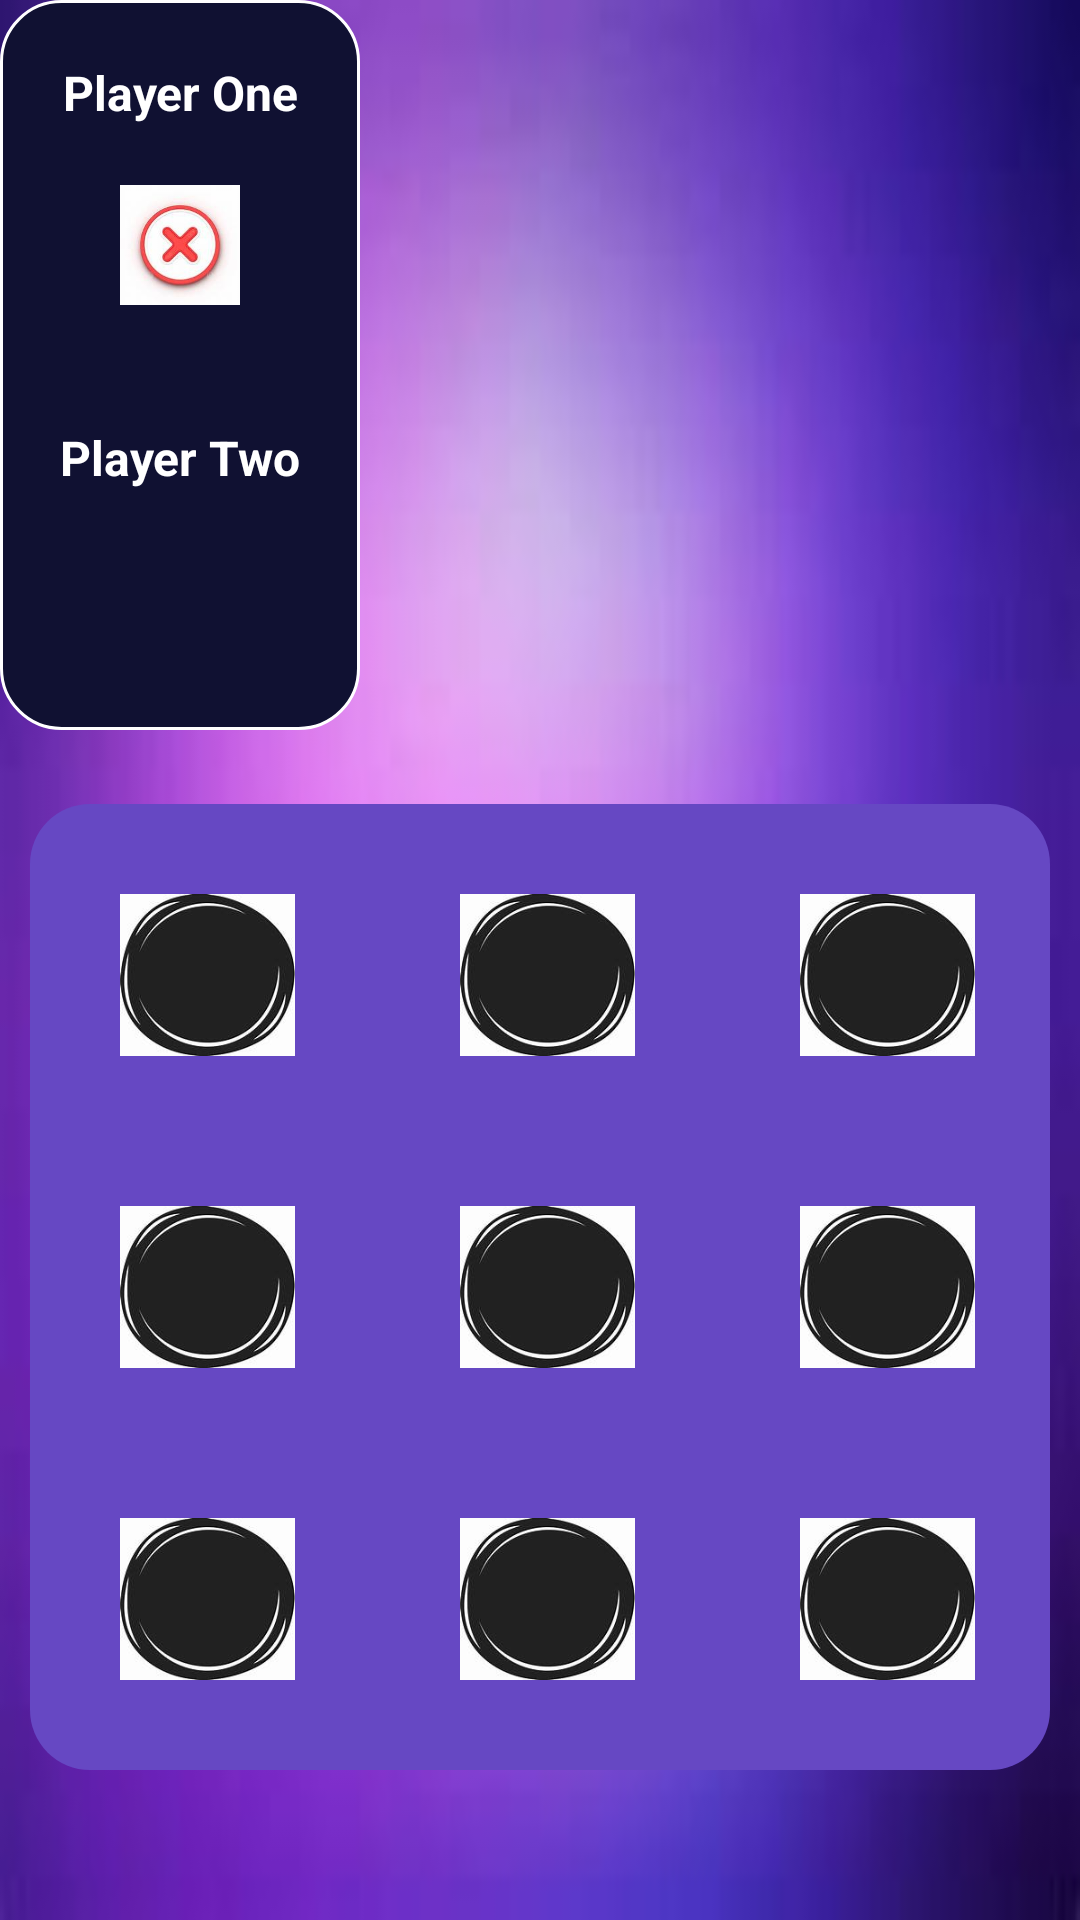

Where to tap for icons on this 1080 × 1920 app screen, as (x,y):
cross id: (180,245)
